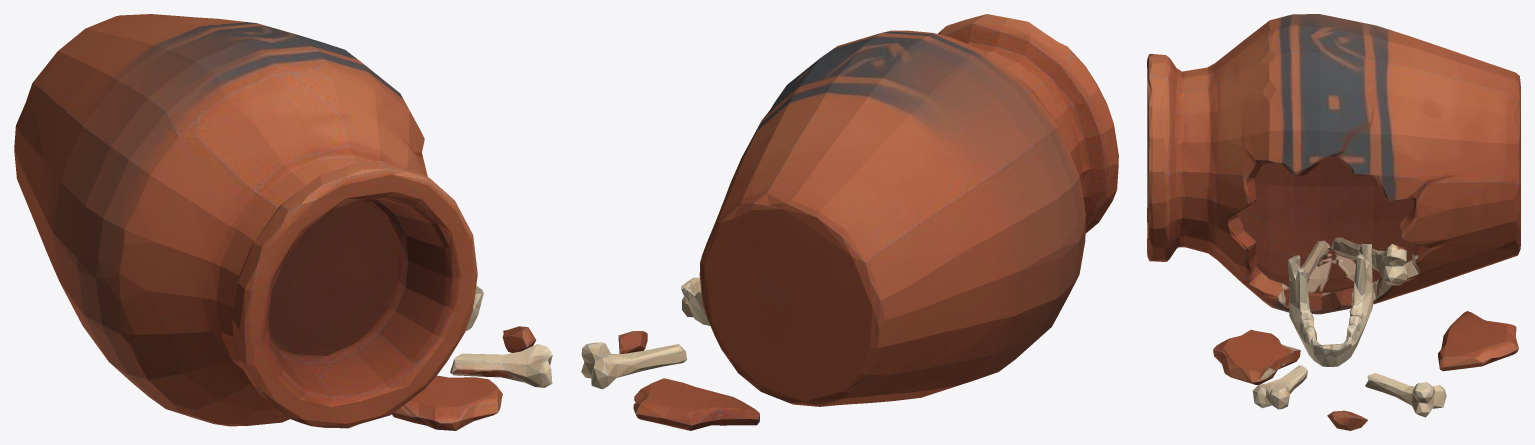
The model's file is broken_urn.glb.
3 views of the same model, side by side, from view 1: azimuth 30°, elevation 25°; view 2: azimuth 150°, elevation 25°; view 3: azimuth 270°, elevation 25° (orthographic). The views are drawn at different scales.
Visible parts, largest first — view 1: tripo_node_123d7e1b-9ad4-4e73-a34a-62bbcb63a48e.001; view 2: tripo_node_123d7e1b-9ad4-4e73-a34a-62bbcb63a48e.001; view 3: tripo_node_123d7e1b-9ad4-4e73-a34a-62bbcb63a48e.001.
Part boxes in pixels (bbox=[...]): tripo_node_123d7e1b-9ad4-4e73-a34a-62bbcb63a48e.001: bbox=[14, 14, 552, 430]; tripo_node_123d7e1b-9ad4-4e73-a34a-62bbcb63a48e.001: bbox=[581, 14, 1118, 430]; tripo_node_123d7e1b-9ad4-4e73-a34a-62bbcb63a48e.001: bbox=[1147, 14, 1520, 430].
Bounding box in the file's own units: 0.9767 × 0.7835 × 0.8938.
Materials: 1 (1 with a texture image).
